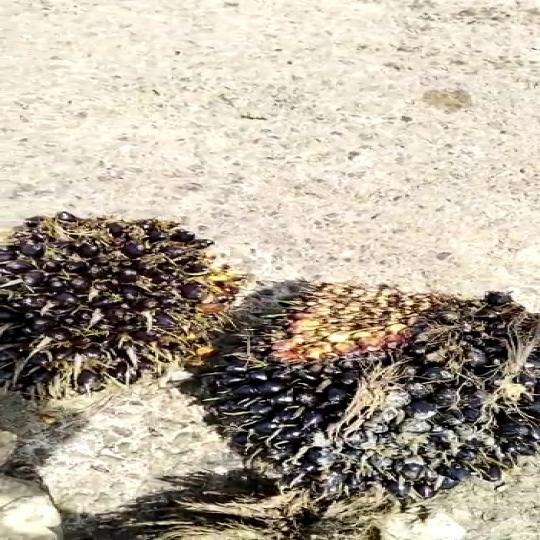mentah: (227, 270, 540, 503), (0, 213, 259, 410)
